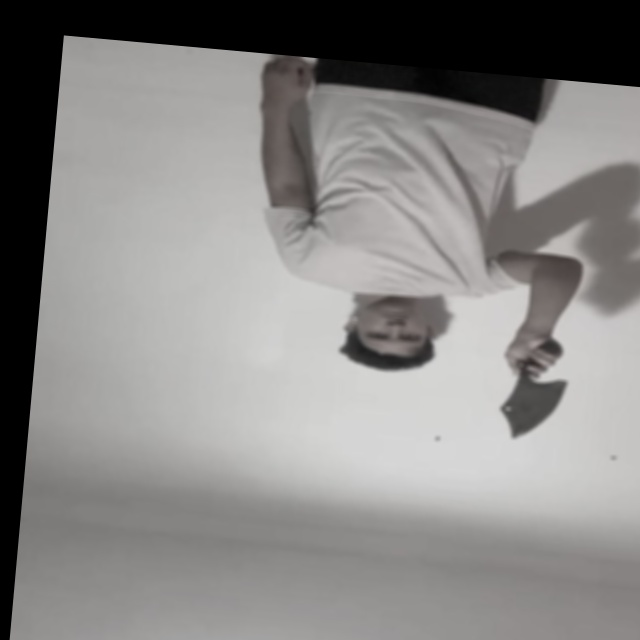Sharp-Object: (495, 376, 571, 445)
